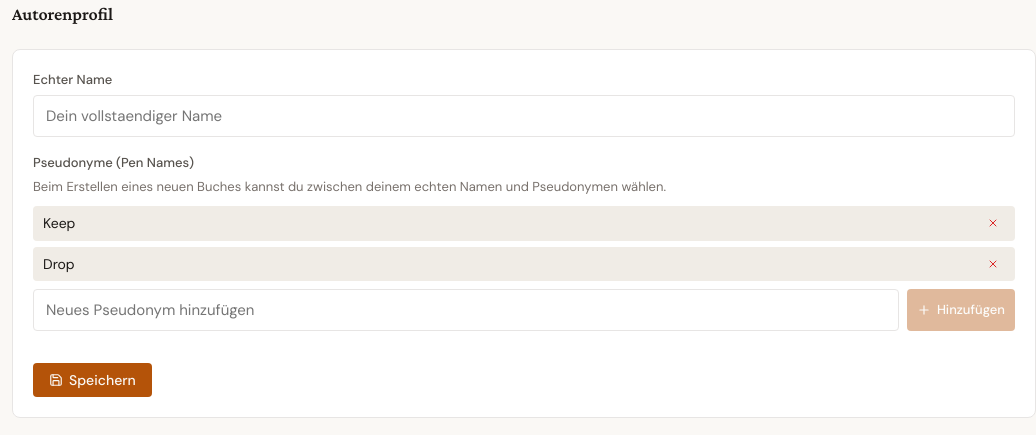
AuthorSettings › removes a pen-name via the remove button
Check: the element with test id "author-pen-name-1" is shown, box [33,247,1015,281]
Click the button with test id "author-pen-name-remove-1". click: (993, 264)
box: [981,256,1005,272]
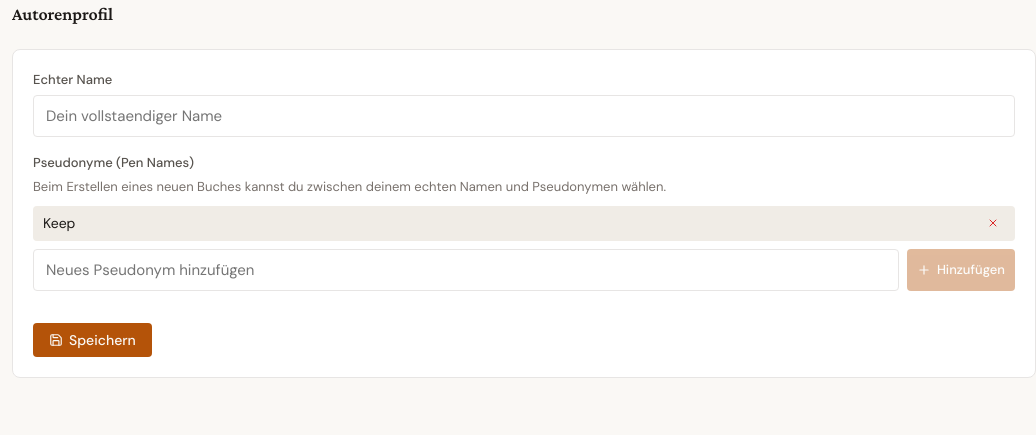
Check: the element with test id "author-pen-name-0" reads "Keep", box [43,214,75,232]
Check: the element with test id "author-pen-name-1" is gone
